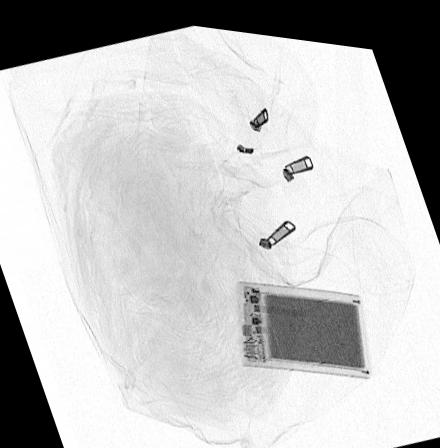Powerbank: (234, 274, 371, 369)
